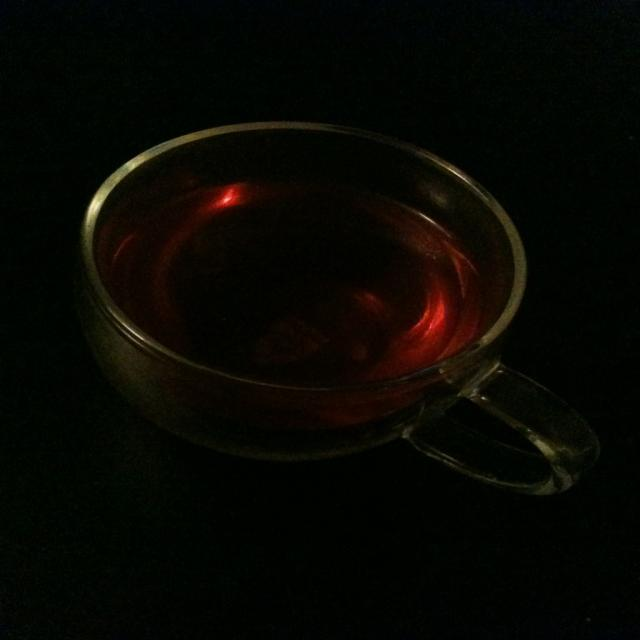Cup: (61, 99, 608, 538)
